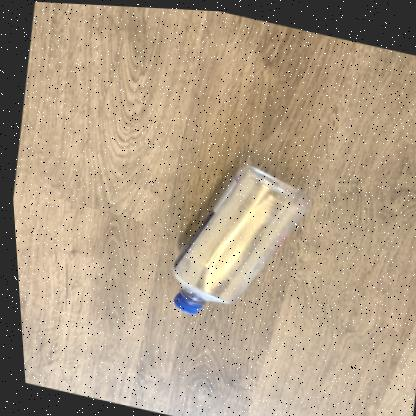Plastic: (168, 162, 305, 309)
